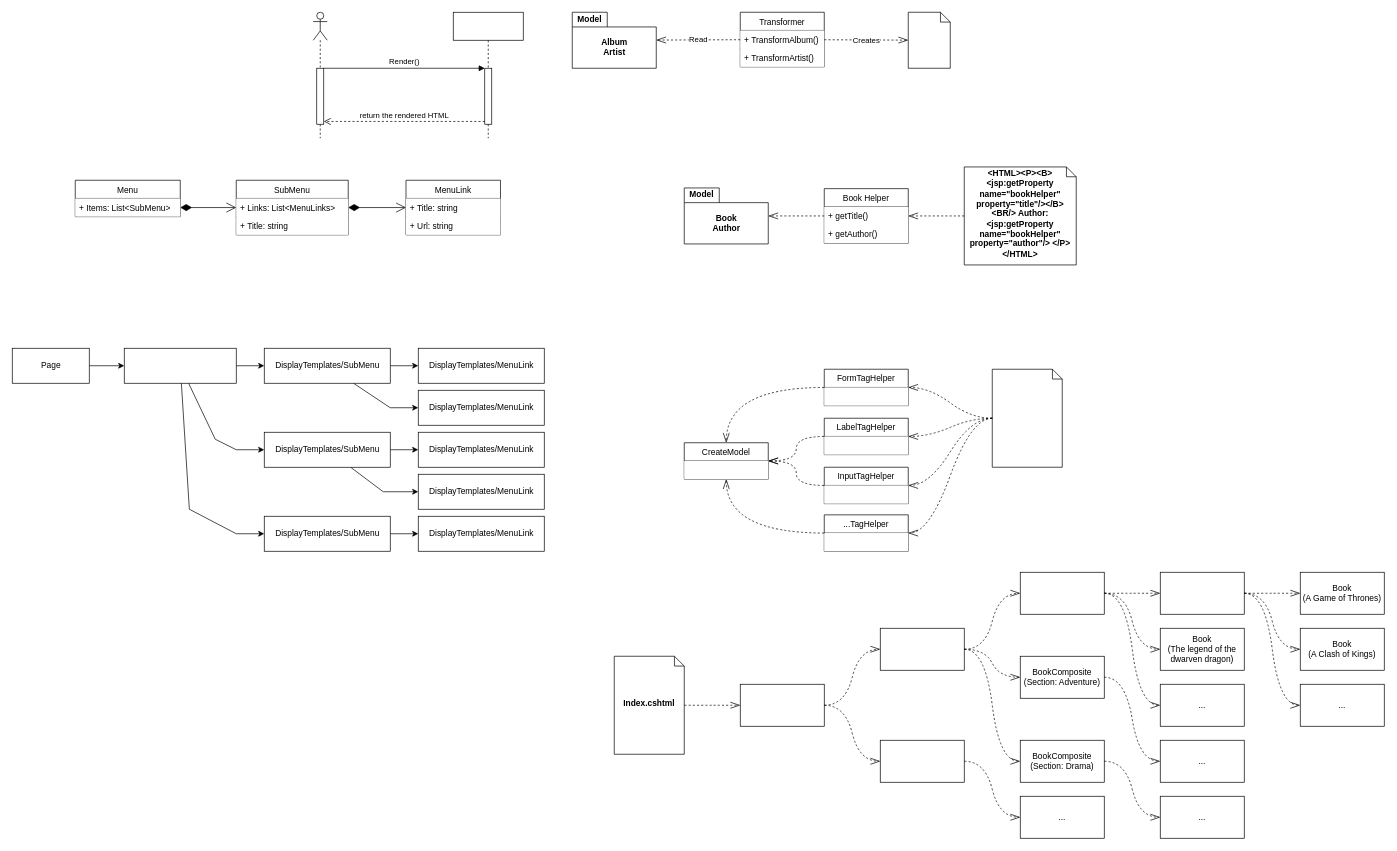
Image size: 1397x851. Some labels were removed from this diagram. The centre of each missing label's shape, as x and y in pixels:
":Transformer" belongs at point 488,75.
"BookComposite (Corporation)" belongs at point 782,705.
"BookComposite (Section: Fantasy)" belongs at point 1062,593.
"BookComposite (Set: A Song of Ice and Fire)" belongs at point 1202,593.
"BookComposite (Store: East Store)" belongs at point 922,649.
"BookComposite (Store: West Store)" belongs at point 922,761.
"Create.cshtml" belongs at point 1027,418.
"DisplayTemplates/Menu" belongs at point 180,365.
"HTML" belongs at point 929,40.
